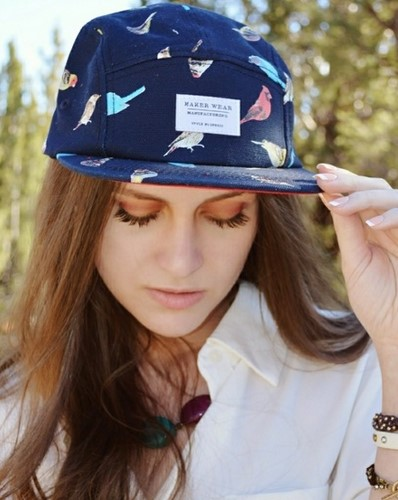face_no_mask: (68, 123, 275, 343)
